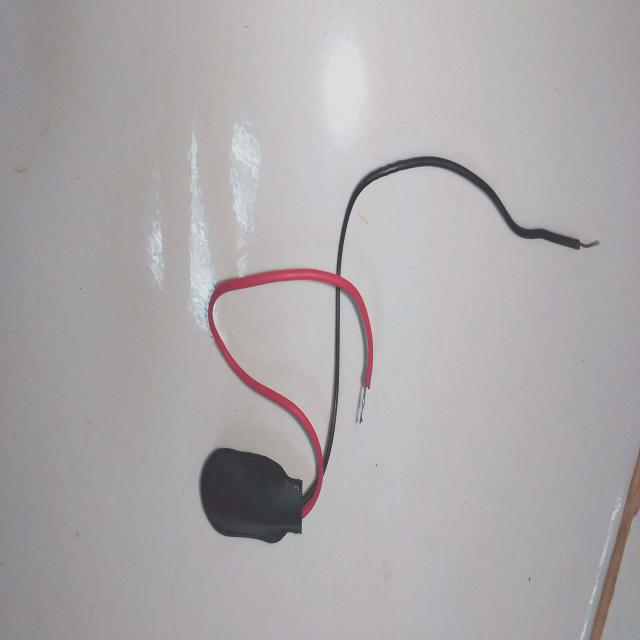Battery Holder: (196, 250, 377, 562)
